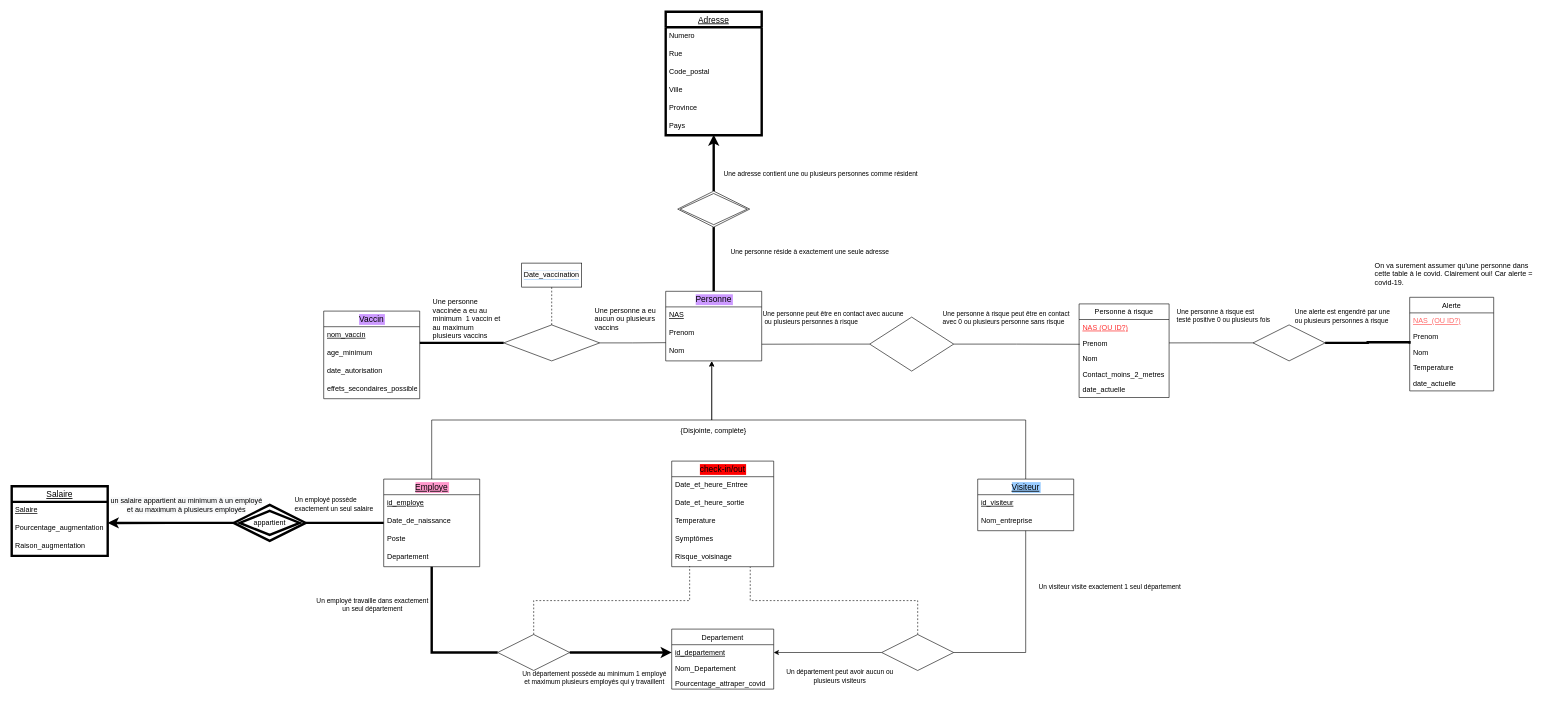
The diagram is 1546 pixels wide and 701 high, and some of its shapes have lost their labels. The centre of each missing label's shape, as x and y in pixels:
"contact" goes at point (911, 343).
"Réside" goes at point (713, 208).
"testé positif" goes at point (1288, 342).
"Travaille" goes at point (533, 652).
"Vacciné" goes at point (551, 342).
"Visite" goes at point (917, 652).
